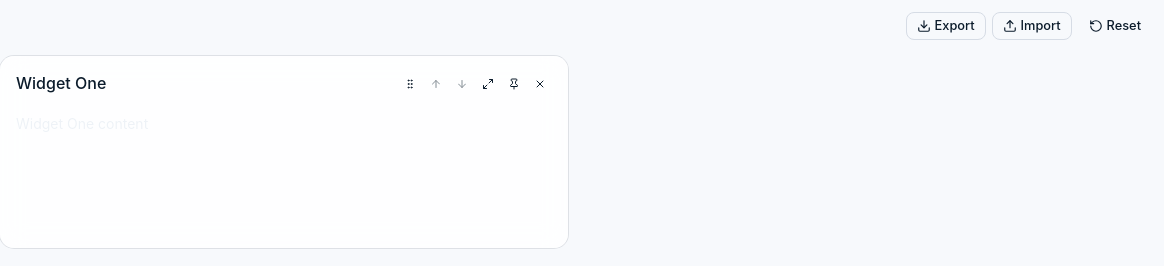
Scenario: DashboardGrid › Remove is disabled while the widget is pinned
The image size is (1164, 266).
Click the button named "Pin" at x=514, y=84, box top-left (502, 72), bottom-right (526, 96)
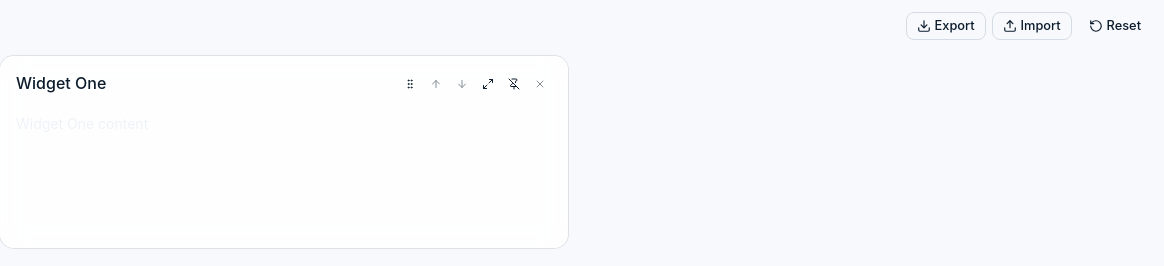
Expected: the button named "Remove" is disabled, top-left (528, 72), bottom-right (552, 96)
